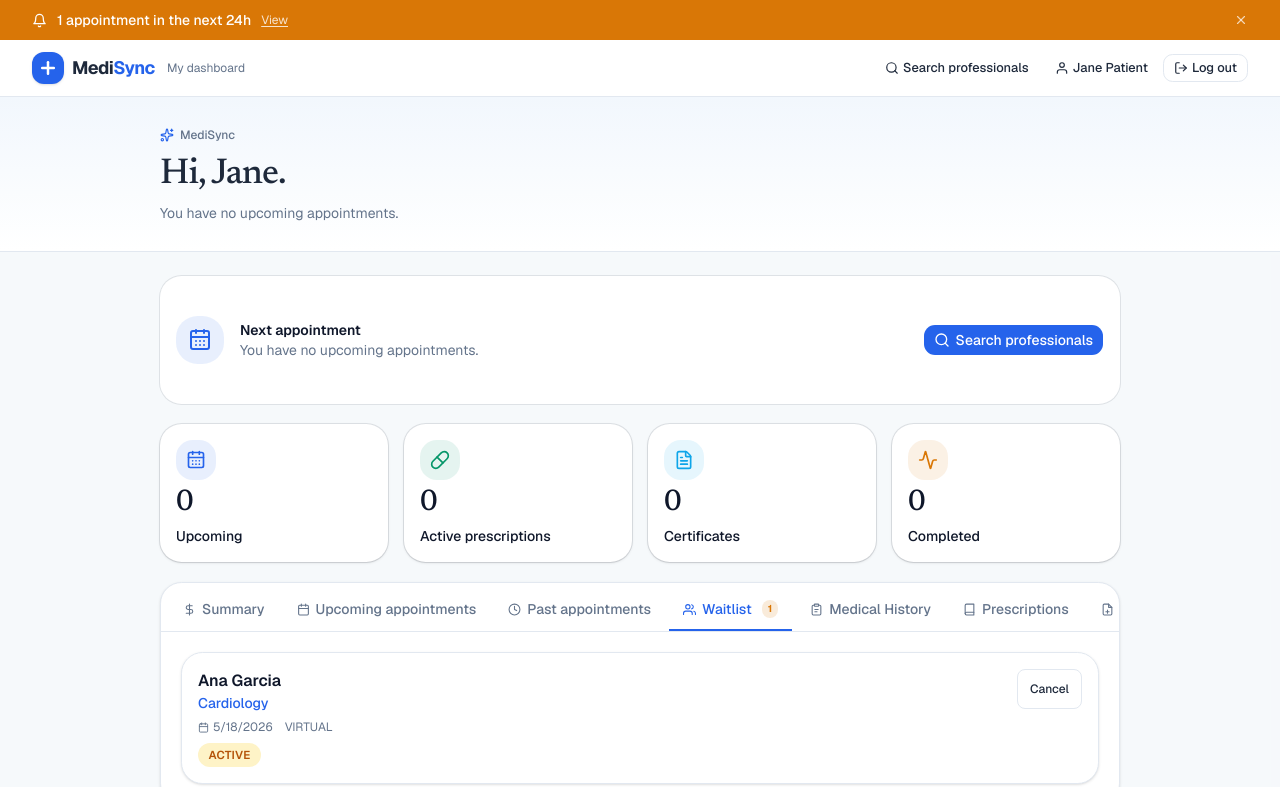
Test: patient dashboard page i18n › renders waitlist date as a date-only clinic key and shows translated removal notice
Expected: the text "Ana Garcia" is shown, [198, 670, 281, 691]
Expected: the text "5/18/2026" is shown, [198, 719, 273, 735]
Click the button "Cancel" at x=1049, y=689, box [1017, 669, 1082, 709]
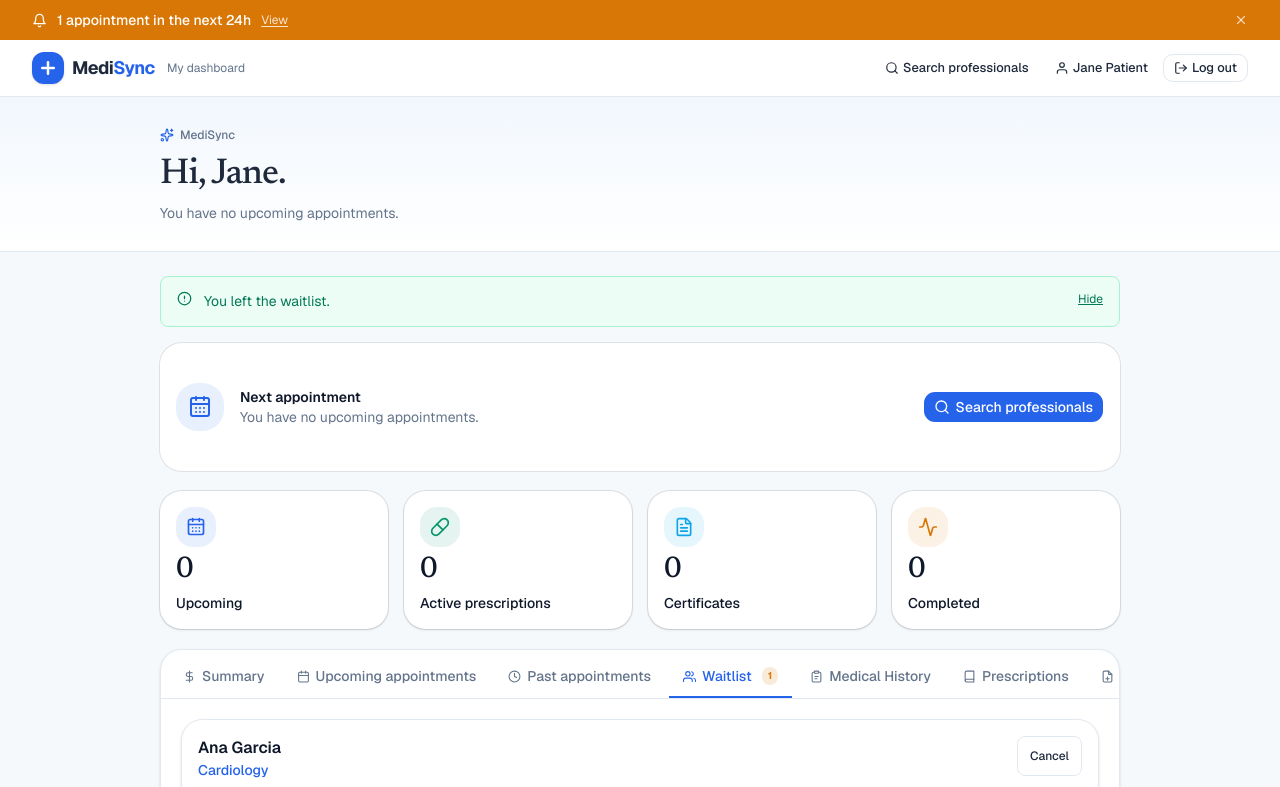
Expected: the text "You left the waitlist." is shown, [204, 291, 330, 312]
Expected: the button "Hide" is shown, [1078, 291, 1103, 307]
